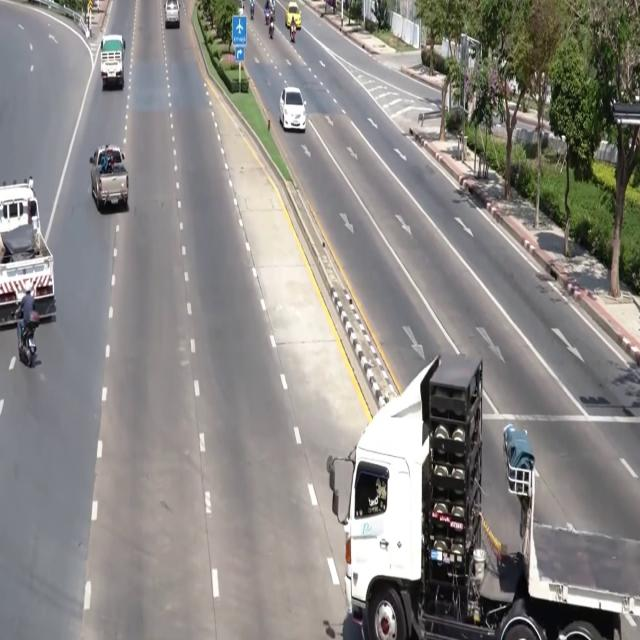car: (280, 87, 306, 131), (285, 1, 301, 30), (165, 0, 179, 28)
scooty: (19, 312, 39, 367), (269, 16, 274, 39), (290, 21, 295, 43), (250, 2, 254, 20), (265, 8, 269, 25)
truck: (327, 355, 639, 639), (0, 179, 55, 326), (90, 145, 128, 210), (100, 35, 125, 89)
